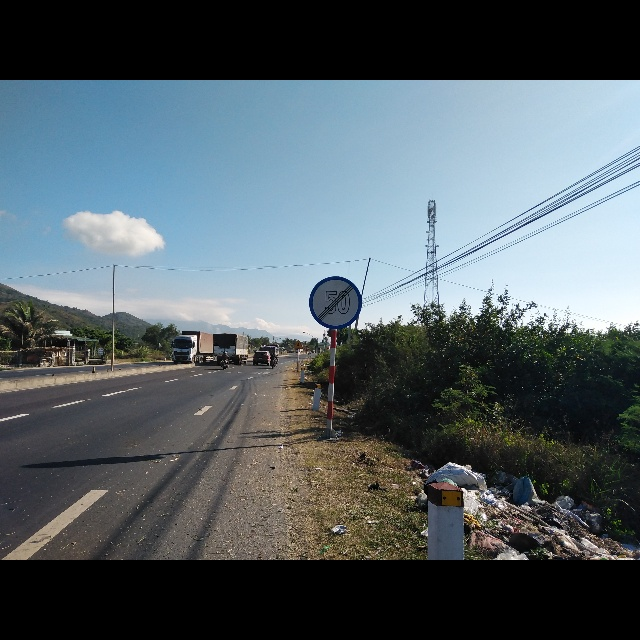Hết hạn chế tốc độ tối đa 50km/h: (304, 273, 362, 333)
